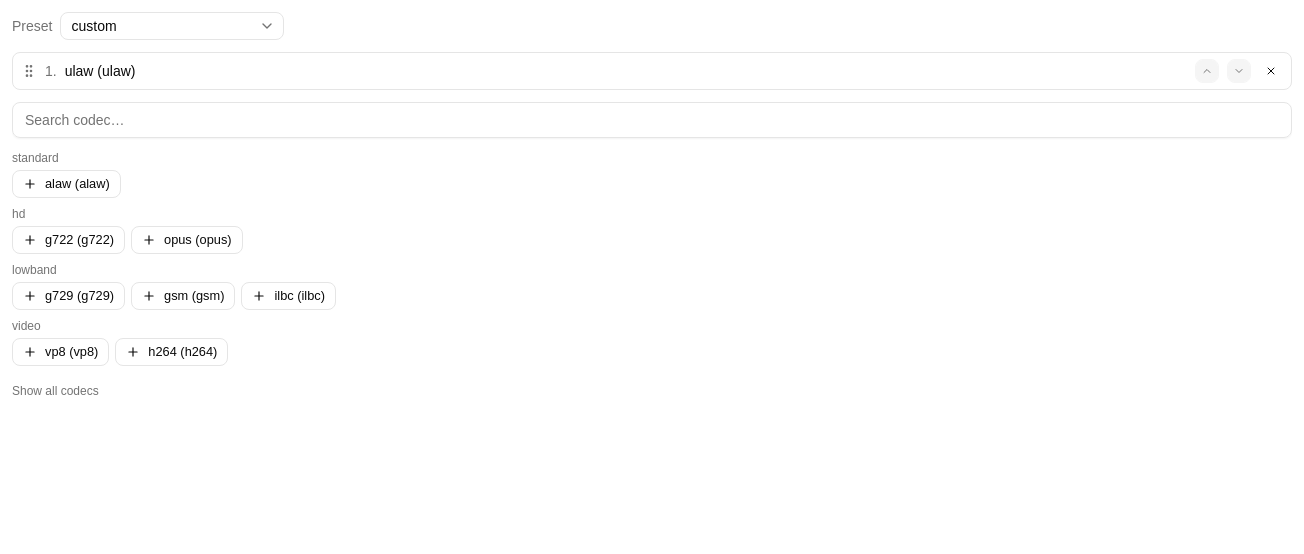
CodecSelector › CodecSelector_ShouldRevealNonCuratedCodecs_WhenShowAllClicked
Expected: the button with test id "cs-add-gsm" is shown, [131,282,235,310]
Click the button with test id "cs-show-all".
click(55, 391)  # box [12,383,99,399]
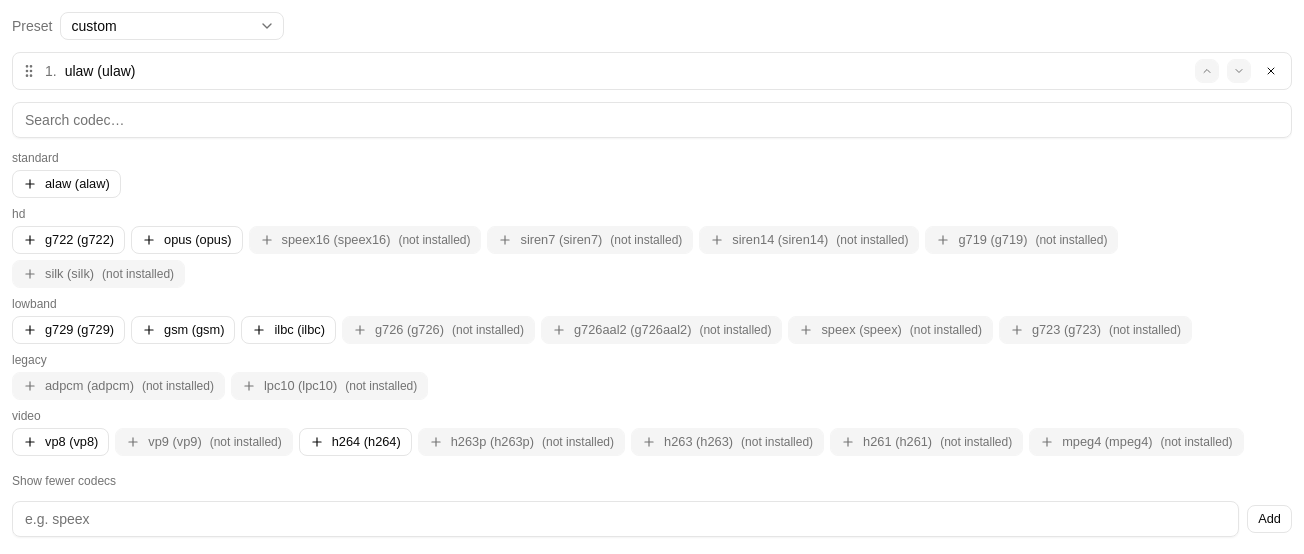
Expected: the button with test id "cs-add-speex" is disabled, [788,316,993,344]
